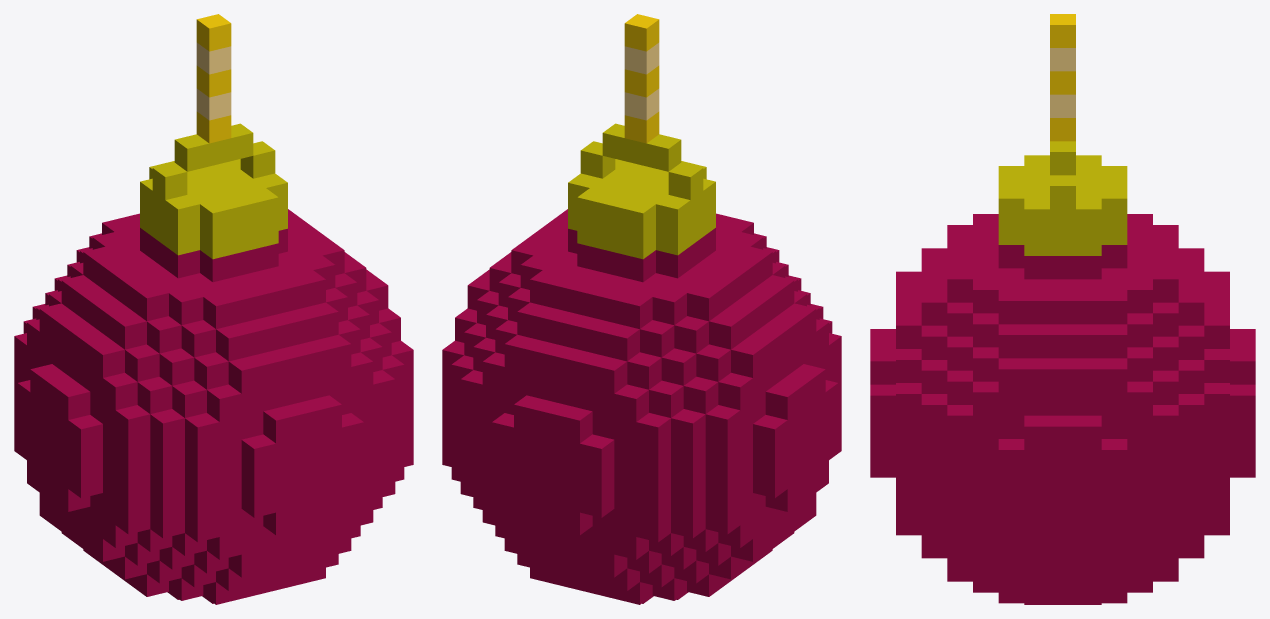
Rendered from Christmas Ball Red.fbx.
The picture shows the model from 3 angles, left to right: view 1: azimuth 30°, elevation 25°; view 2: azimuth 150°, elevation 25°; view 3: azimuth 270°, elevation 25°; orthographic projection.
Parts seen in each view (by area): view 1: Untitled; view 2: Untitled; view 3: Untitled.
Boxes of the visible parts, x1,y1,x2,y2 form: Untitled: (14, 14, 413, 604); Untitled: (442, 14, 841, 604); Untitled: (870, 14, 1255, 604).
Size of the model in its own units: 150 by 240 by 150.
